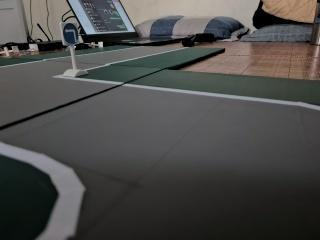left: (58, 19, 83, 49)
